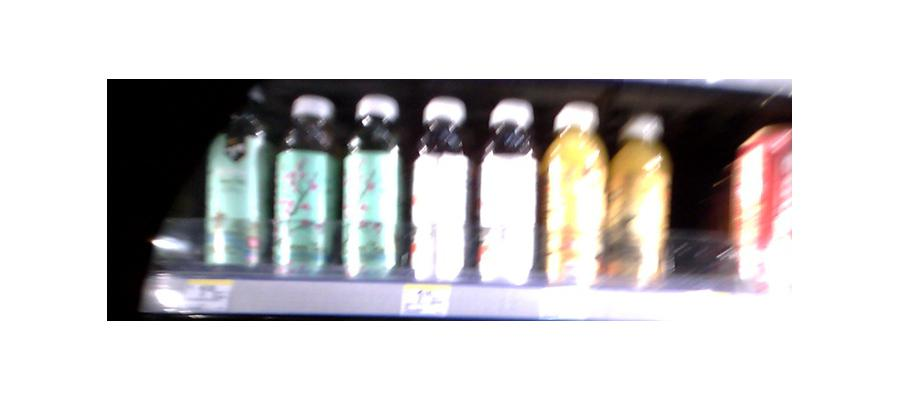bottle: (474, 102, 539, 289), (200, 103, 271, 273), (542, 106, 607, 290), (269, 100, 336, 277), (408, 104, 470, 290), (340, 98, 400, 282), (609, 111, 671, 287), (736, 124, 790, 287)
